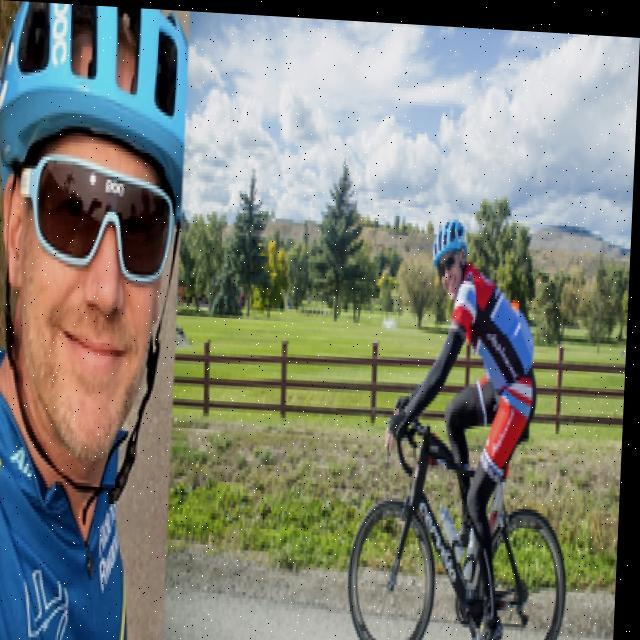With Helmet: (10, 0, 206, 504), (428, 206, 482, 307)
